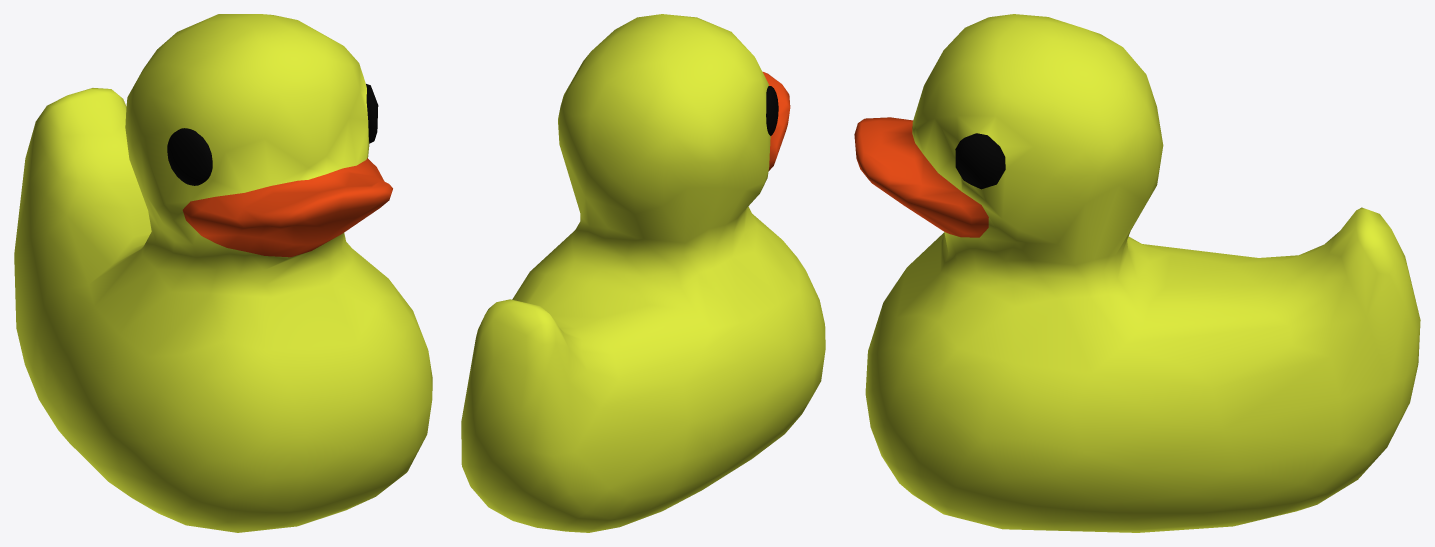
Rendered from simpleDuck.glb.
3 renders of one model, left to right at view 1: azimuth 30°, elevation 25°; view 2: azimuth 150°, elevation 25°; view 3: azimuth 270°, elevation 25°, orthographic. The views are drawn at different scales.
Parts seen in each view (by area): view 1: Cube.001, Cube.003; view 2: Cube.001, Cube.003; view 3: Cube.001.
Part boxes in pixels (x1=…): Cube.001: x1=14, y1=14, x2=432, y2=532; Cube.003: x1=167, y1=128, x2=212, y2=185; Cube.001: x1=461, y1=14, x2=825, y2=532; Cube.003: x1=766, y1=86, x2=778, y2=135; Cube.001: x1=854, y1=14, x2=1420, y2=532.
Bounding box in the file's own units: 2.57 × 3.88 × 4.12.
